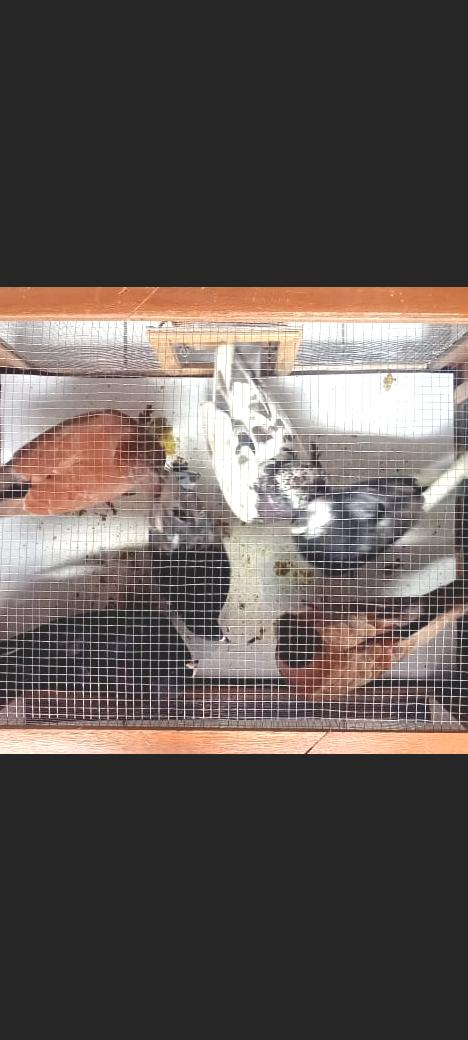Merpati: (273, 574, 468, 701), (289, 447, 468, 579), (207, 340, 332, 527), (0, 607, 200, 702), (0, 409, 165, 519), (146, 454, 231, 642)
